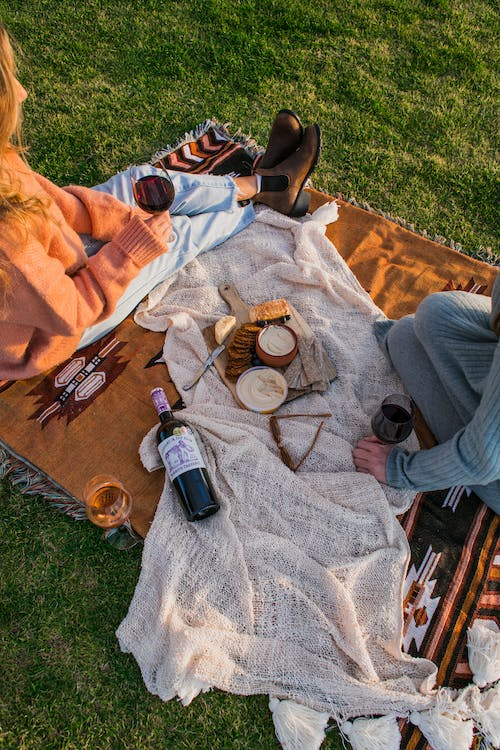alcohol: (148, 385, 222, 524), (82, 471, 141, 551), (129, 154, 177, 217), (371, 393, 417, 446)
